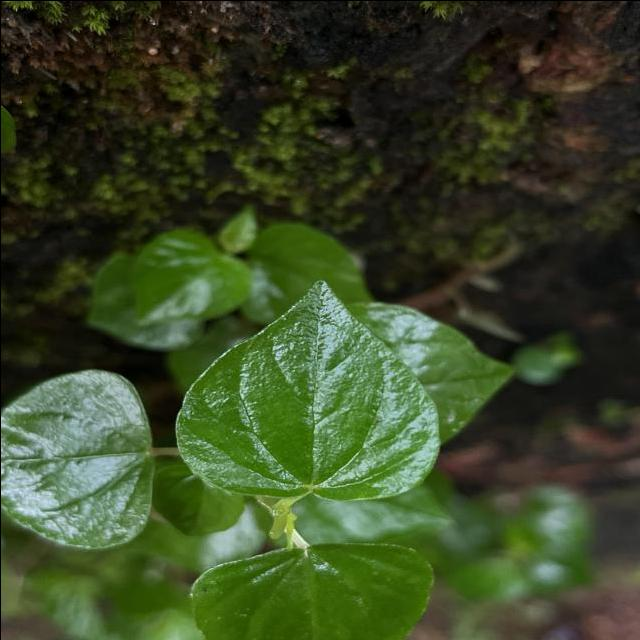Peperomia pellucida: (172, 274, 442, 503)
